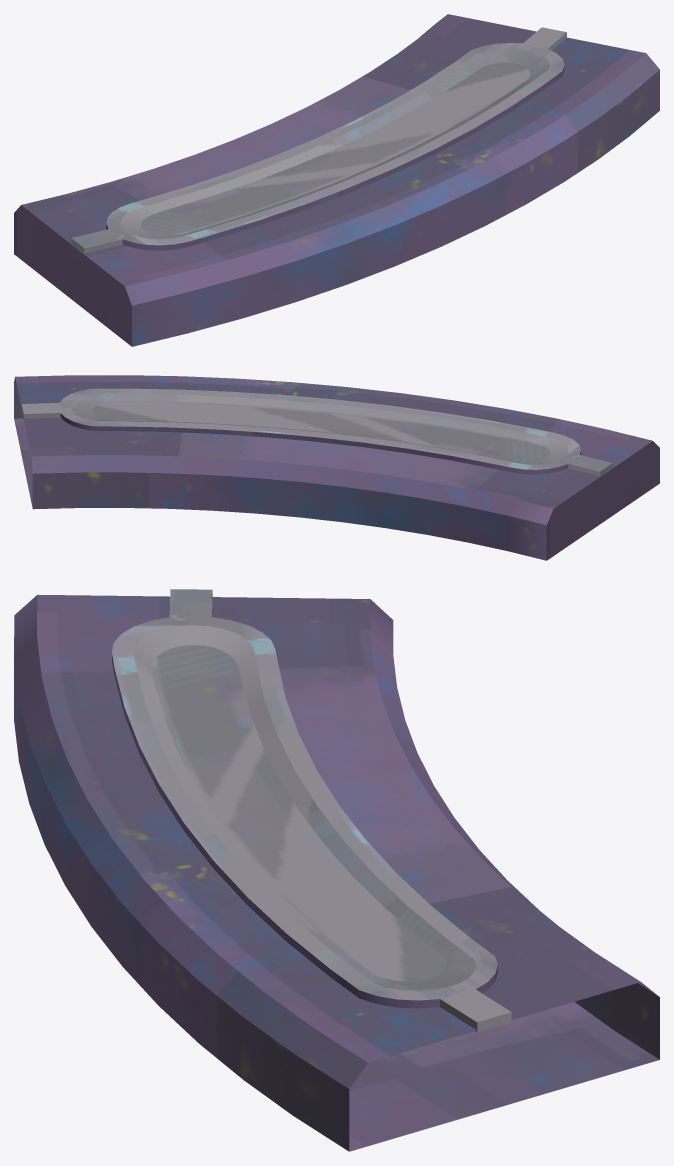
Rendered from SM_Rail_35_R.fbx.
3 renders of one model, top to bottom at view 1: azimuth 30°, elevation 25°; view 2: azimuth 150°, elevation 25°; view 3: azimuth 270°, elevation 25°, orthographic. The views are drawn at different scales.
Visible parts, largest first — view 1: PF_Rail_35_R; view 2: PF_Rail_35_R; view 3: PF_Rail_35_R.
Boxes of the visible parts, x1,y1,x2,y2 form: PF_Rail_35_R: (14,14,659,346); PF_Rail_35_R: (14,375,659,560); PF_Rail_35_R: (14,589,659,1151).
Size of the model in its own units: 4.81 by 0.4338 by 2.77.
